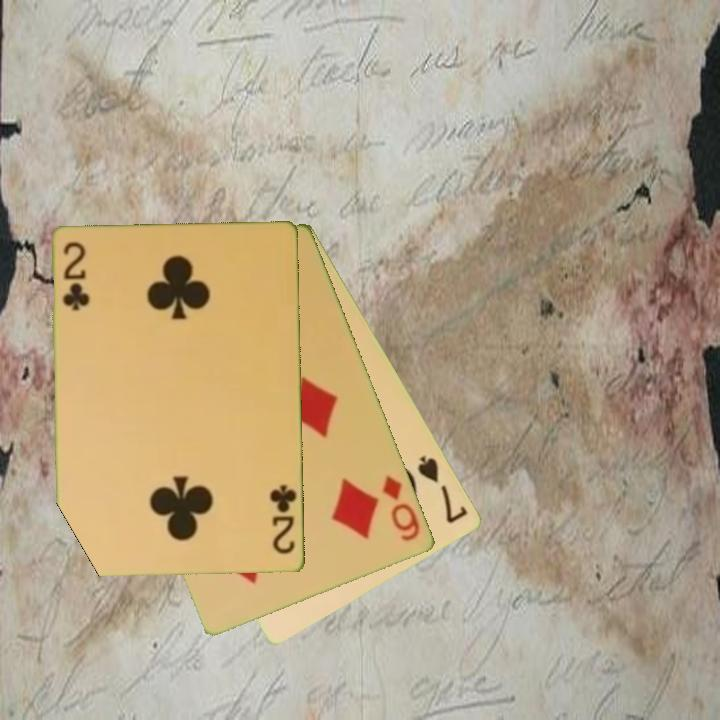2c: (267, 481, 300, 558), (60, 239, 90, 314)
6d: (379, 472, 423, 545)
7s: (414, 452, 472, 527)
